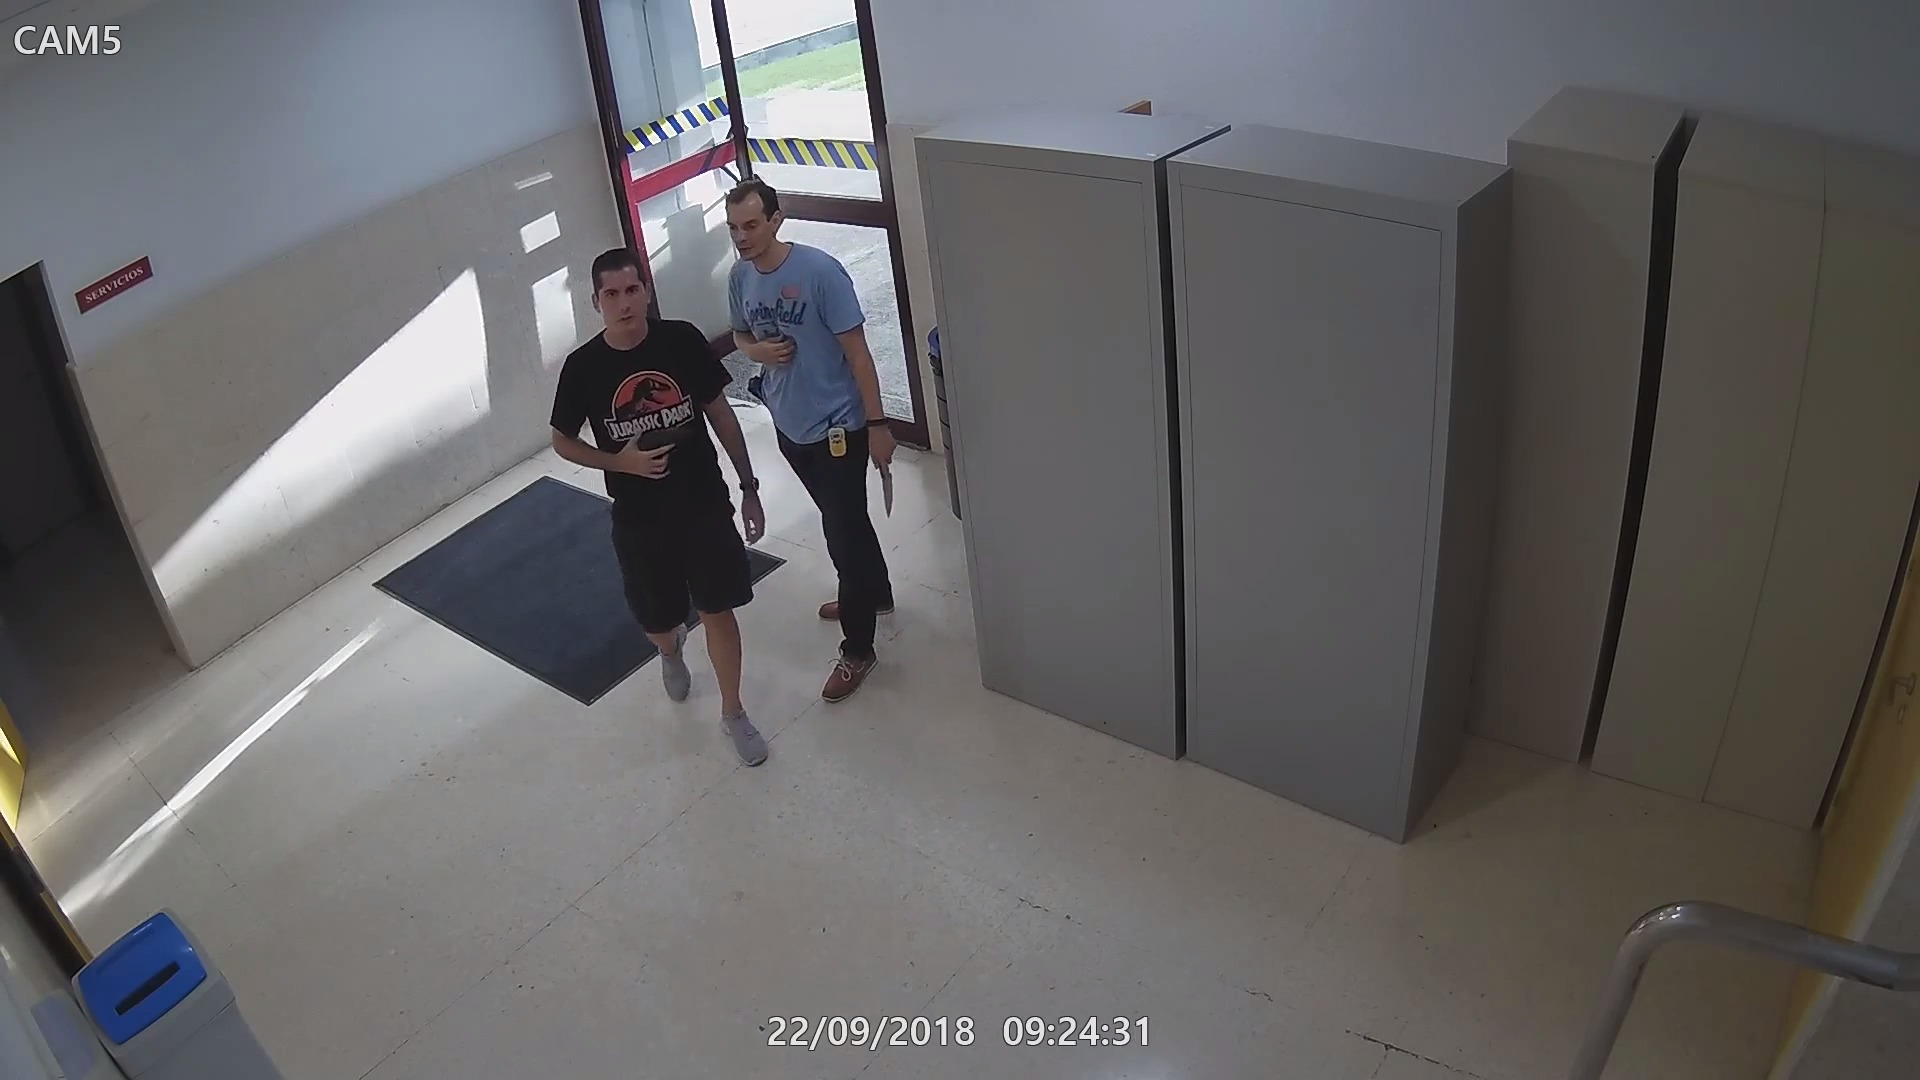Handgun: (617, 419, 705, 479), (737, 365, 771, 419)
Knife: (862, 425, 905, 518)
